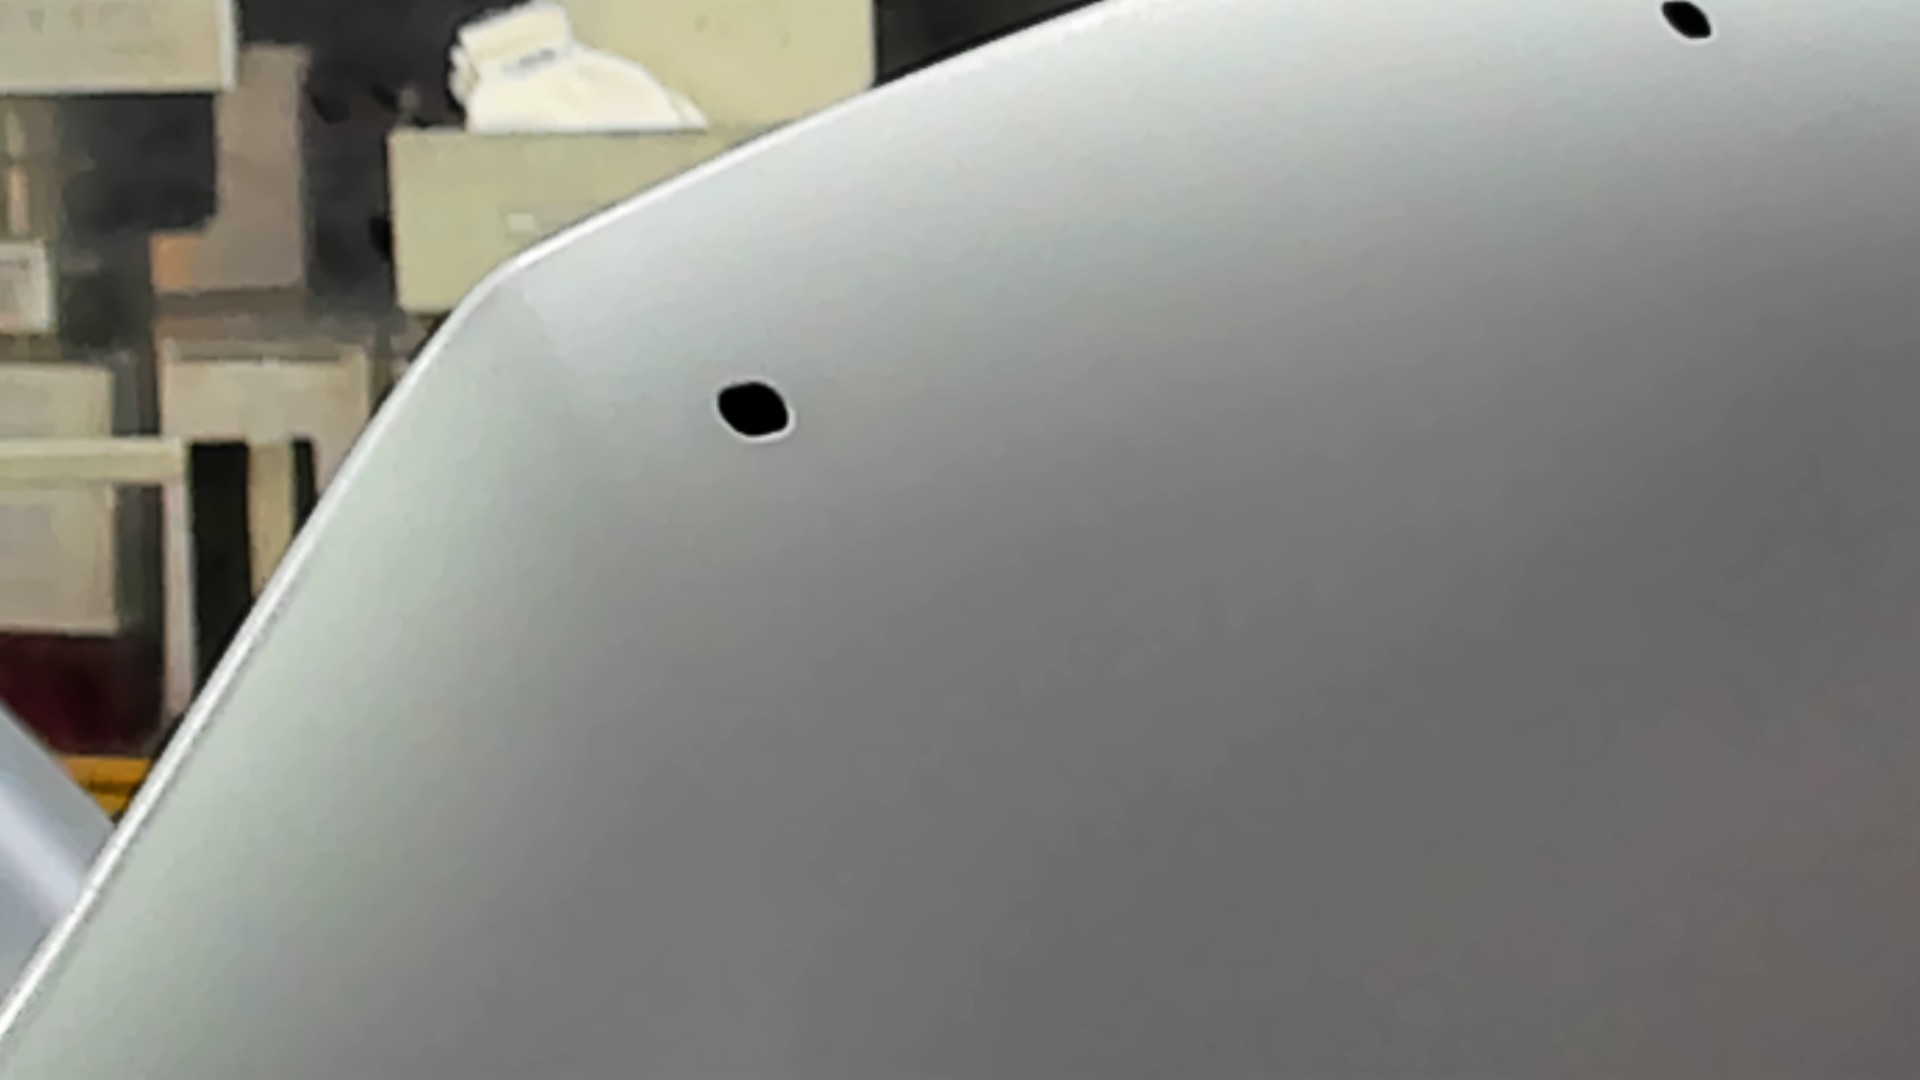amorfo: (709, 378, 798, 440), (1652, 1, 1720, 45)
